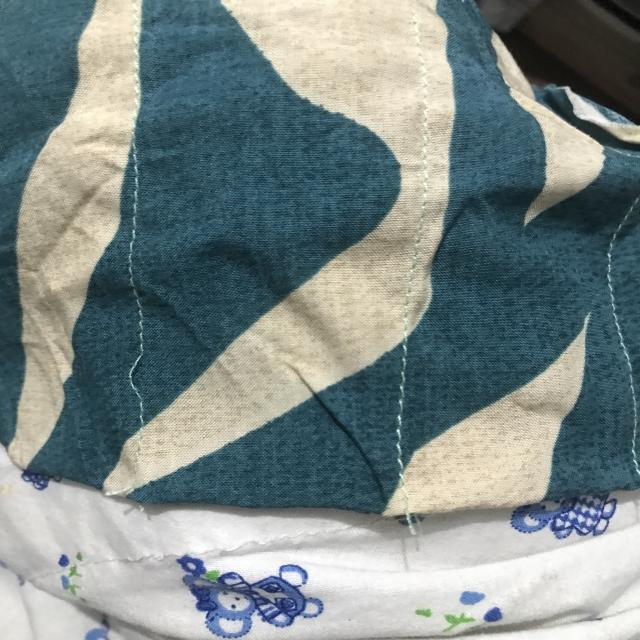good: (117, 239, 158, 302)
skip: (104, 345, 168, 404)
